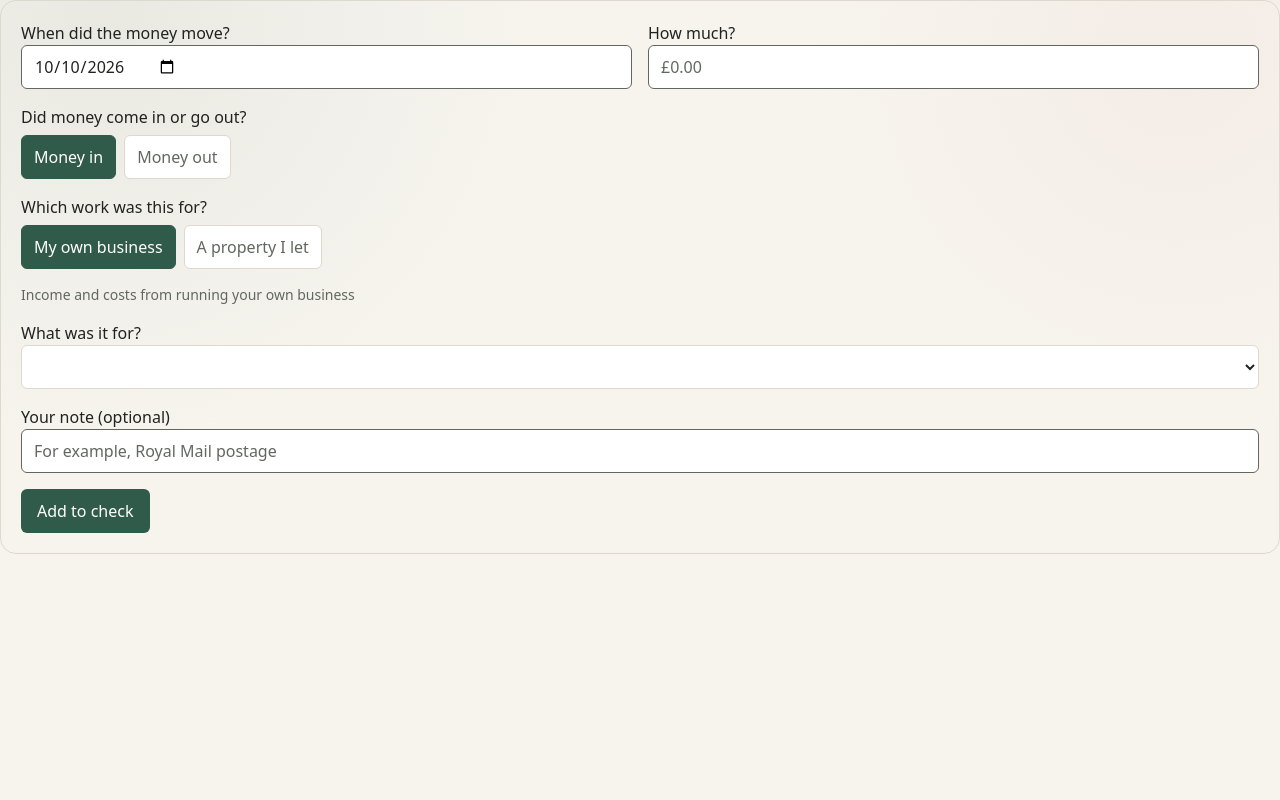
it: RecordForm › announces a plain save failure and keeps technical detail optional
Type "12.50" into the field labelled "How much?" at (954,67), box [648,45,1259,89]
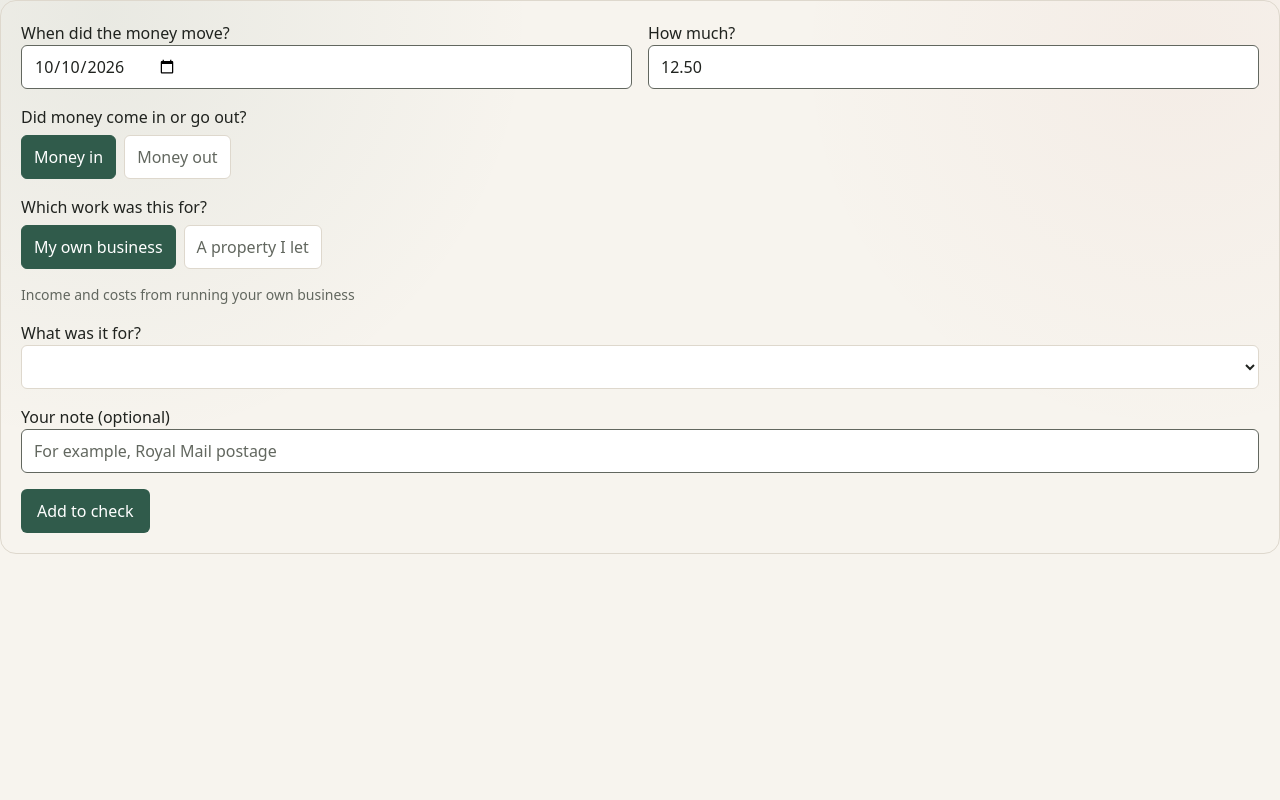
Click the button "Add to check" at (85,511), box [21,489,150,533]
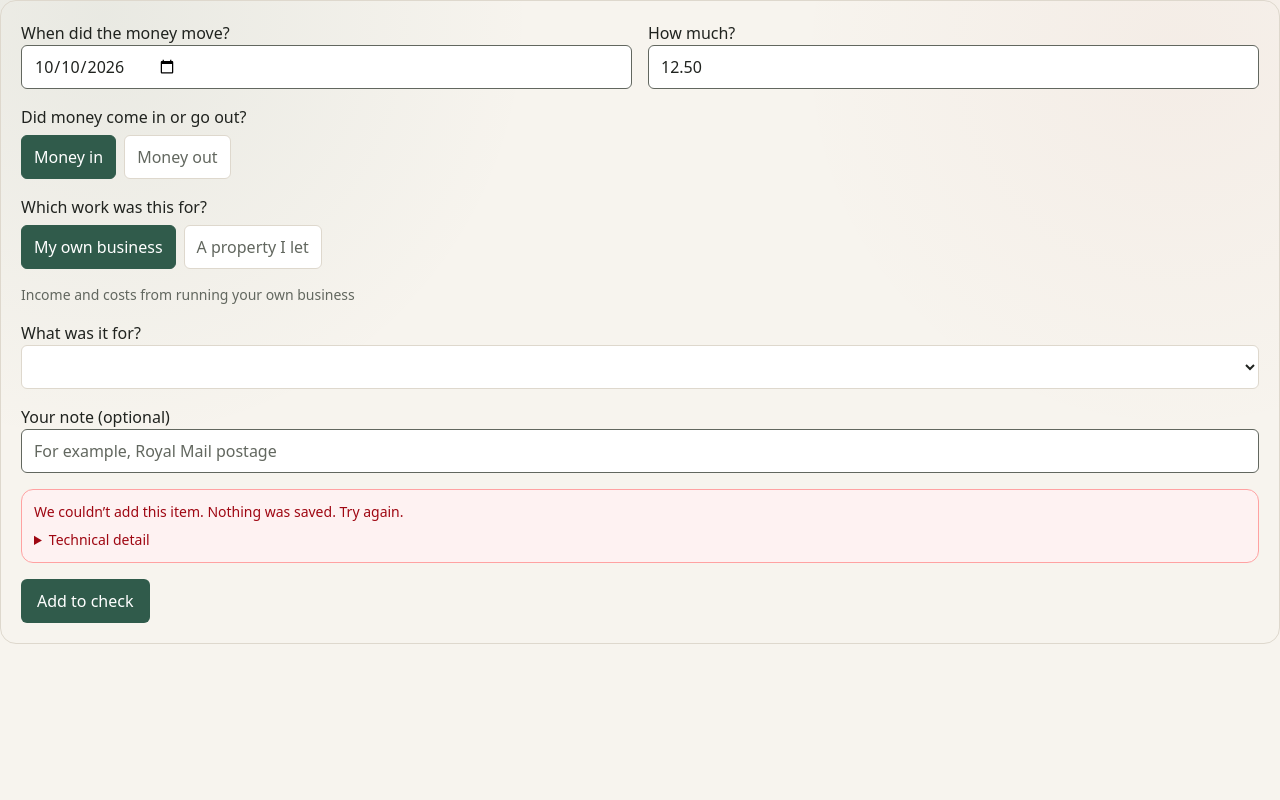
Check: the message shows "We couldn’t add this item. Nothing was saved. Try again.", box [34,502,404,521]
Click the heading "Technical detail" at (99,540), box [49,530,150,549]
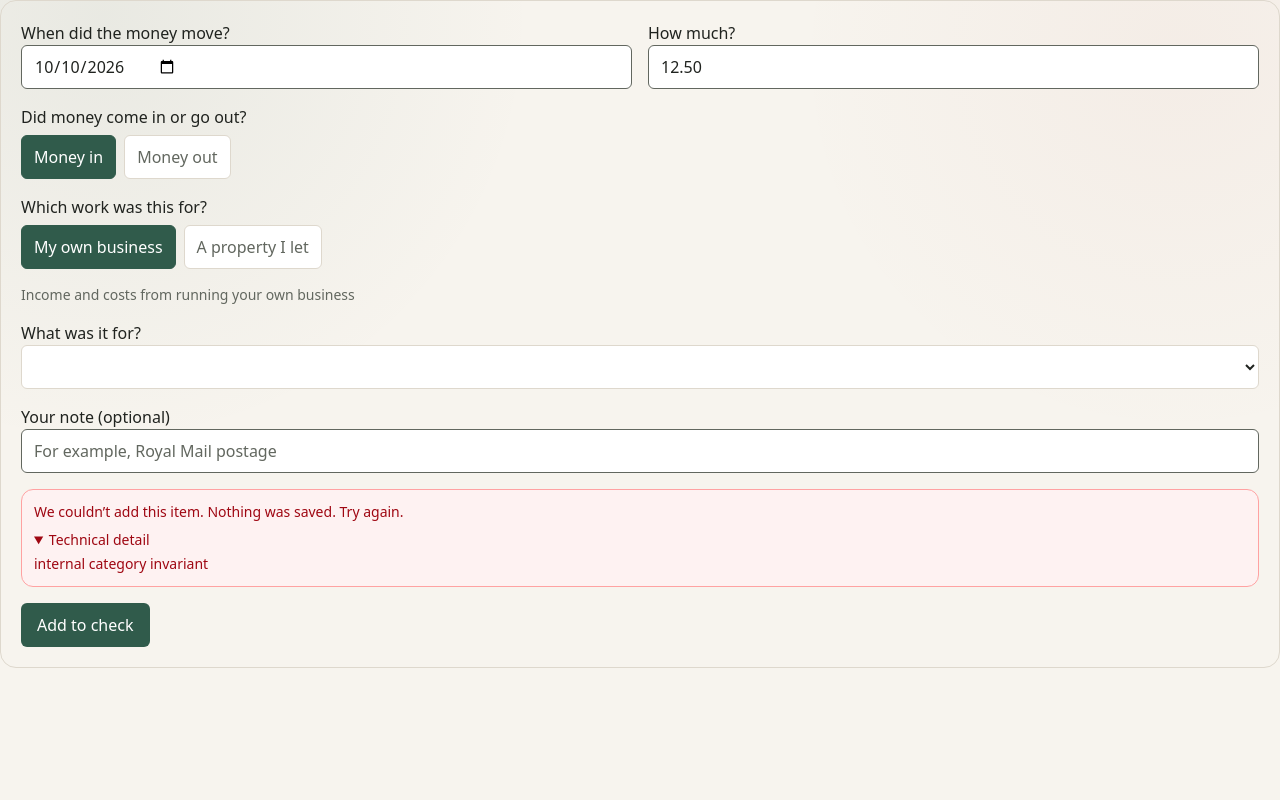
Check: the text "internal category invariant" is shown, box [34,554,208,573]
